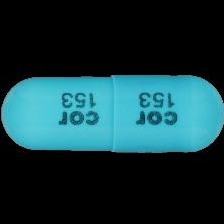67046-085: (0, 0, 224, 224)
